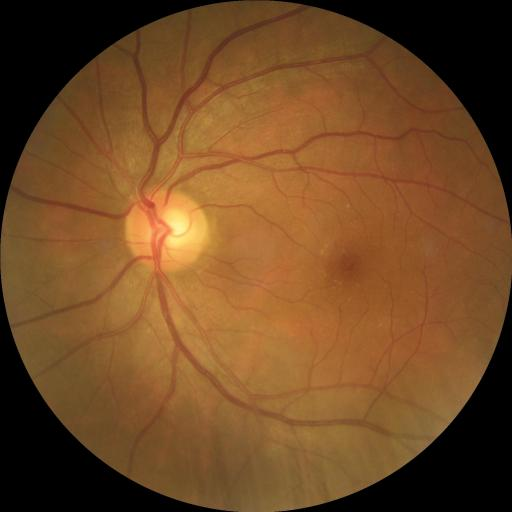Optic Cup: (160, 210, 198, 247)
Optic Disc: (125, 190, 208, 271)
